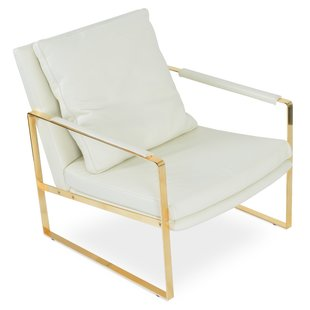chairs: (14, 9, 297, 300)
